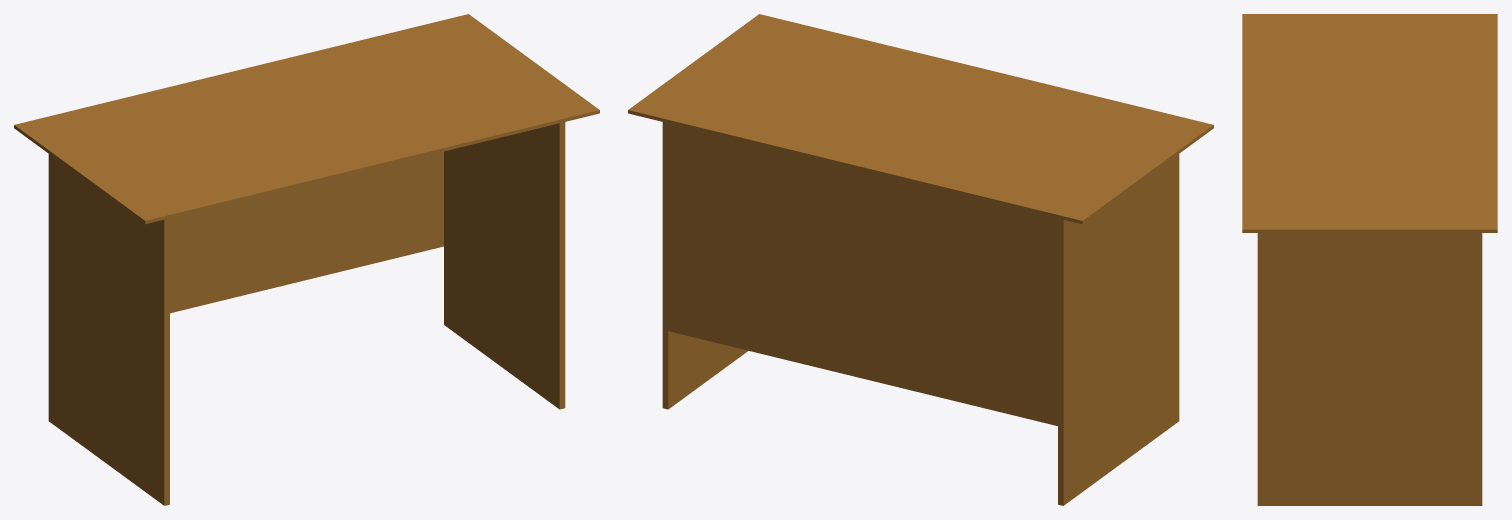
File: table.fbx
3 renders of one model, left to right at view 1: azimuth 30°, elevation 25°; view 2: azimuth 150°, elevation 25°; view 3: azimuth 270°, elevation 25°, orthographic. The views are drawn at different scales.
Parts seen in each view (by area): view 1: Cube.004; view 2: Cube.004; view 3: Cube.004.
Part boxes in pixels (x1,y1,x2,y2): Cube.004: [14, 14, 599, 505]; Cube.004: [628, 14, 1213, 505]; Cube.004: [1242, 14, 1497, 505].
Bounding box in the file's own units: 120 × 75 × 60.
